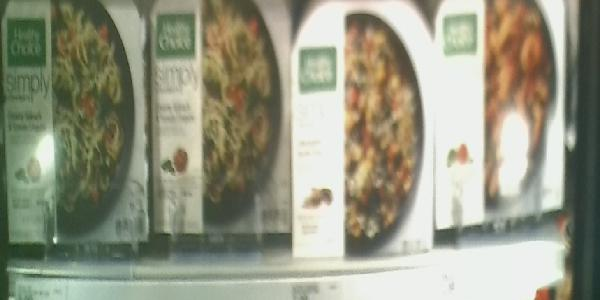pizza1: (2, 1, 152, 250), (294, 1, 435, 265), (151, 1, 291, 244), (436, 1, 569, 229)
